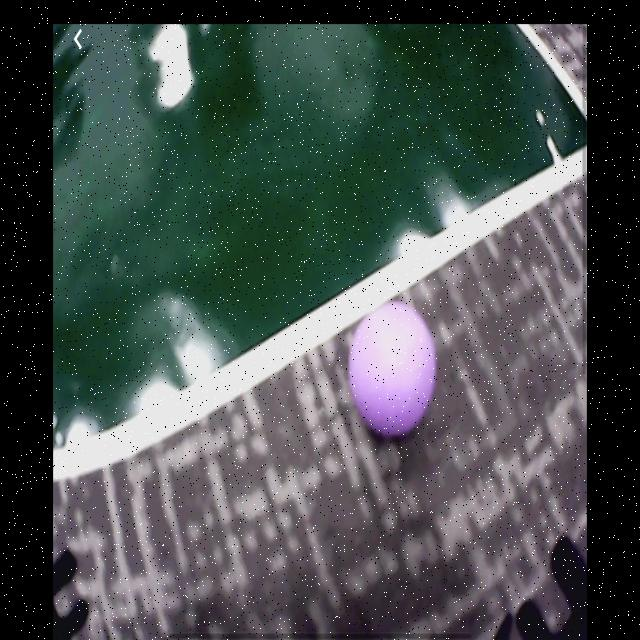ball: (351, 304, 437, 438)
